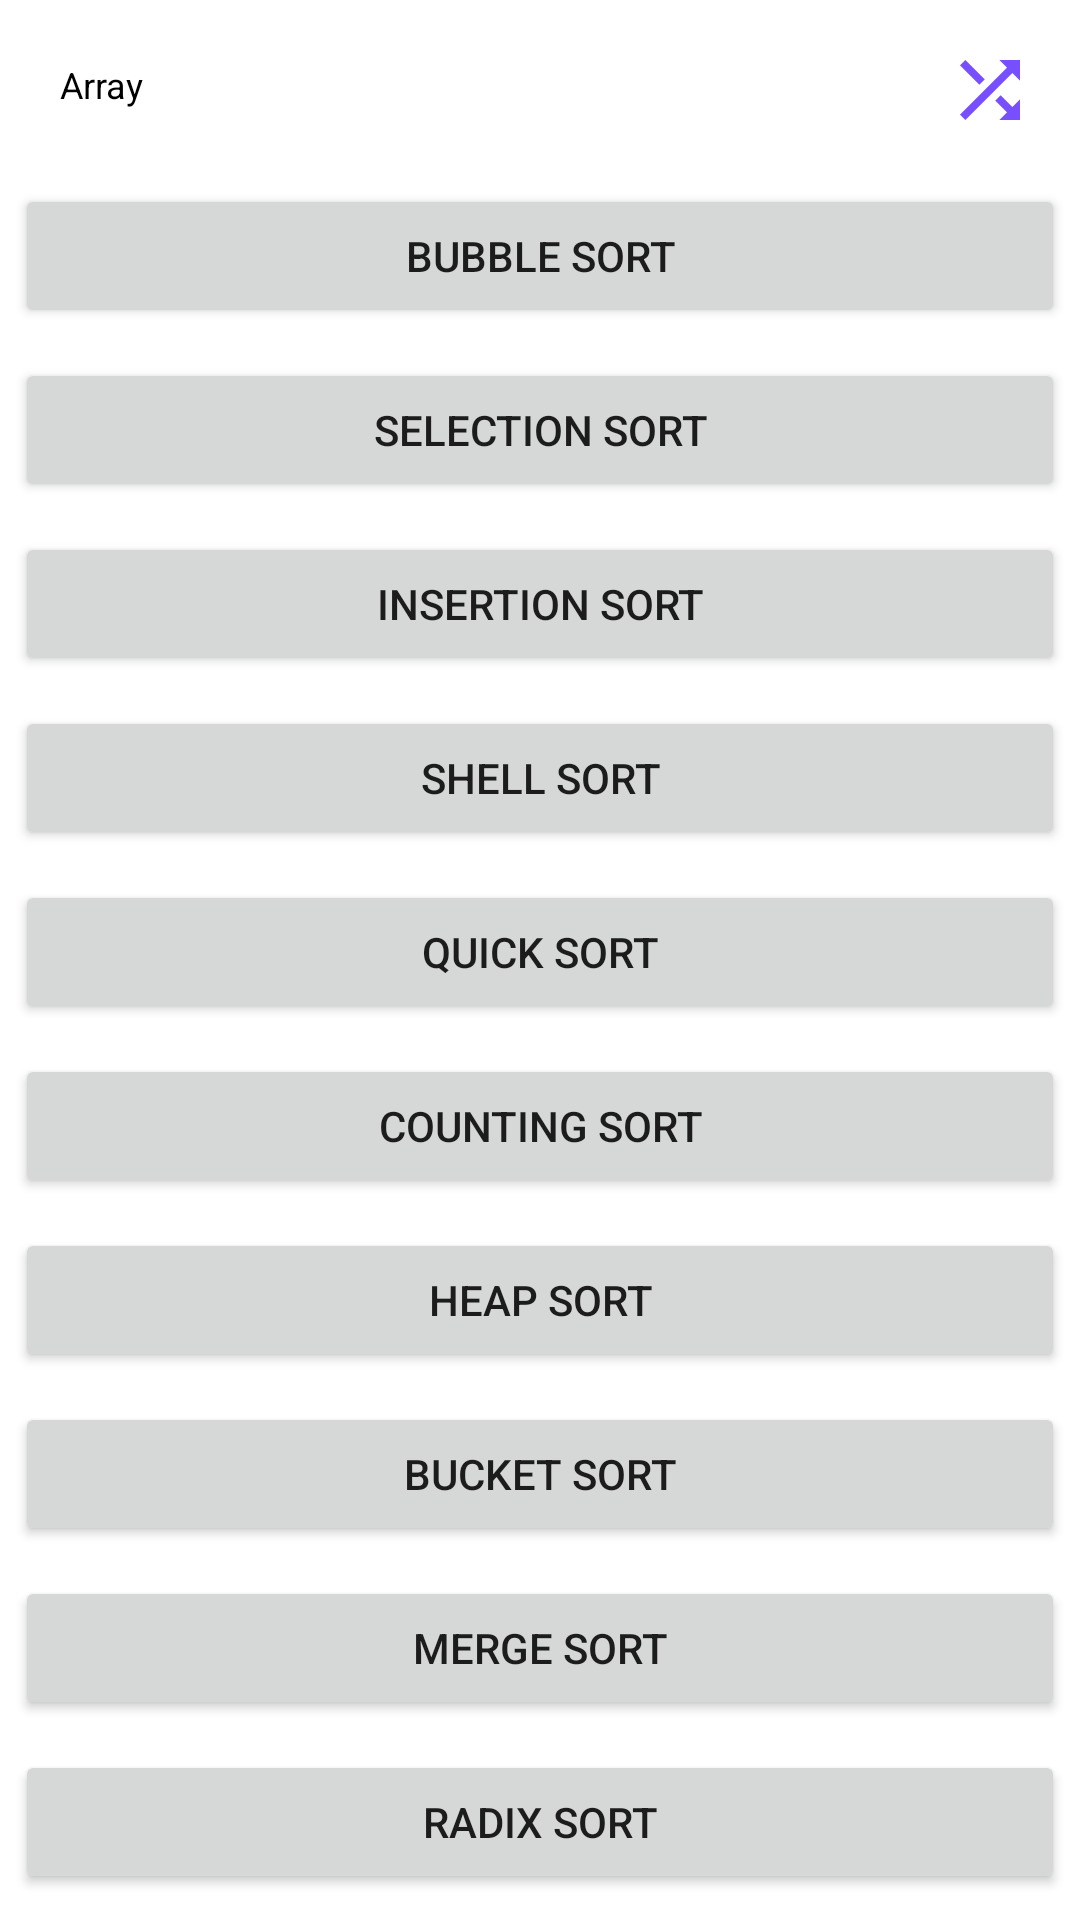

Icons on this 1080×1920 Android screen, each with the point to tap as point (x, y):
shuffle: point (990, 90)
